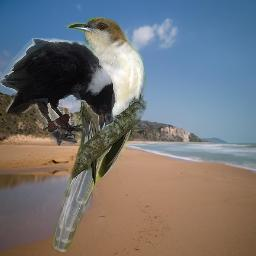Crow: (0, 38, 117, 146)
Cuckoo: (52, 17, 147, 252)
